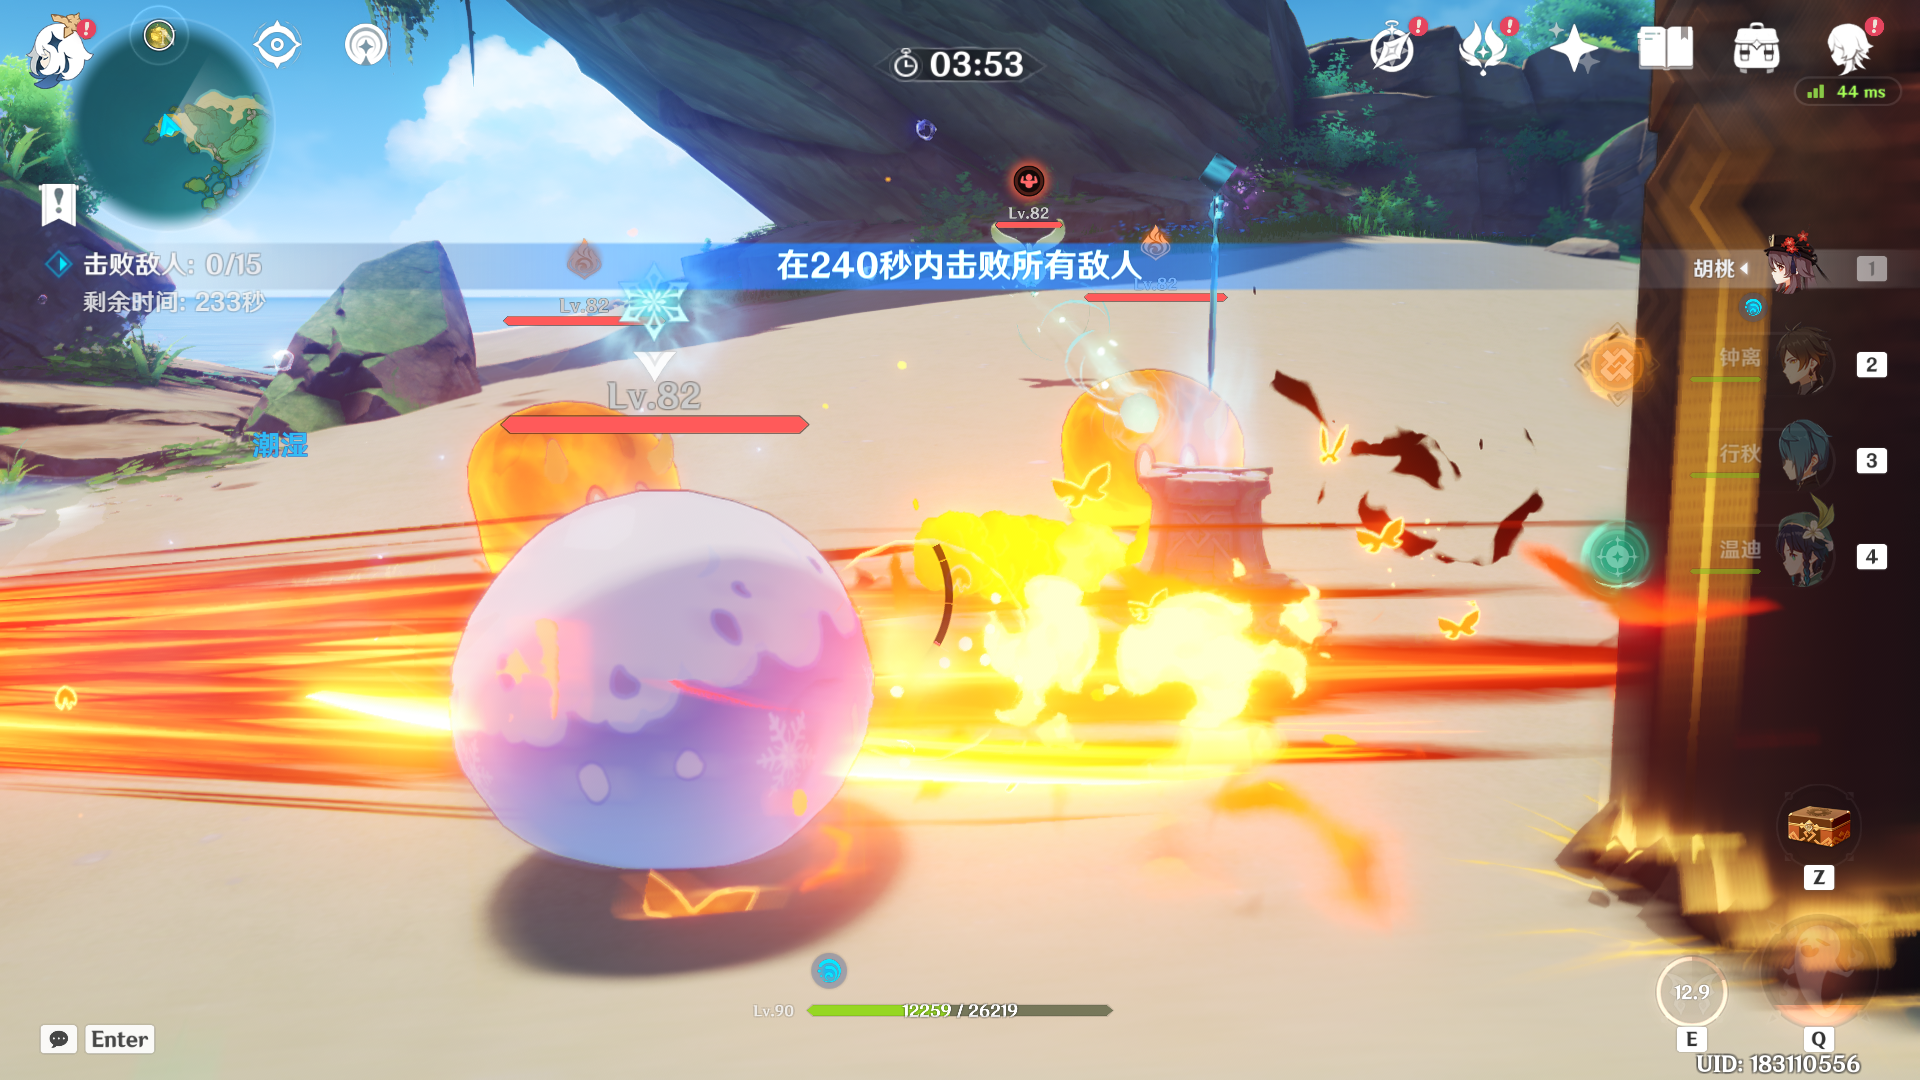slime: (450, 480, 905, 920), (1036, 342, 1270, 546), (452, 400, 688, 591)
